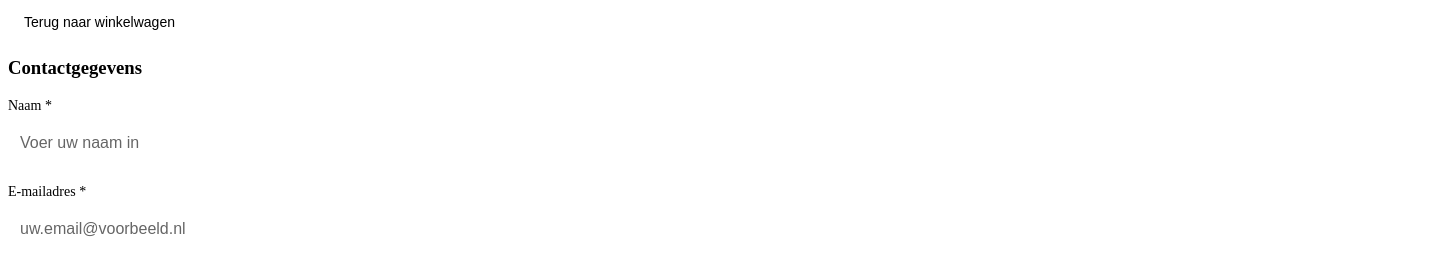
OrderForm › name validation › should show error when name is less than 2 characters
In the field labelled "Naam *": (720, 143) [8,122,1432,164], type "A"
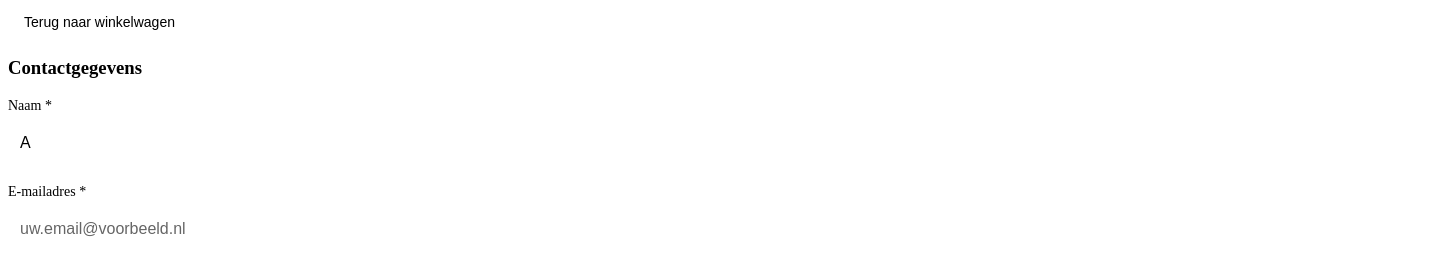
Press Tab
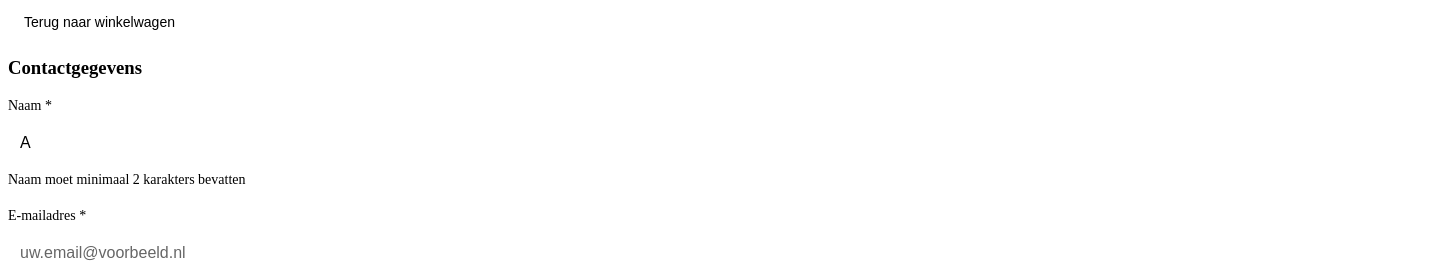
Expected: the text "Naam moet minimaal 2 karakters bevatten" is shown, [8,172,246,187]
